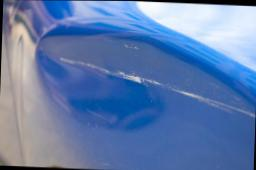Bumper: (21, 27, 256, 166)
